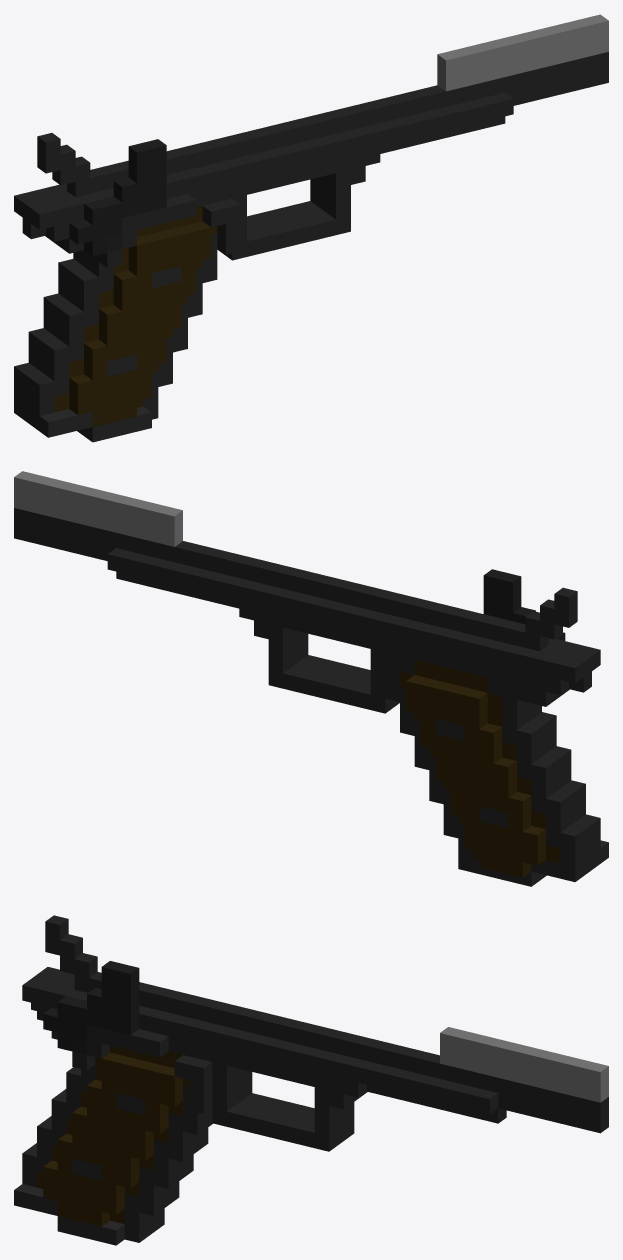
The model's file is nipe-pardini-edited-1.obj.
The picture shows the model from 3 angles, top to bottom: view 1: azimuth 30°, elevation 25°; view 2: azimuth 150°, elevation 25°; view 3: azimuth 330°, elevation 25°; orthographic projection.
Bounding box in the file's own units: 3.9 × 1.9 × 0.5.
Materials: 1 (1 with a texture image).
